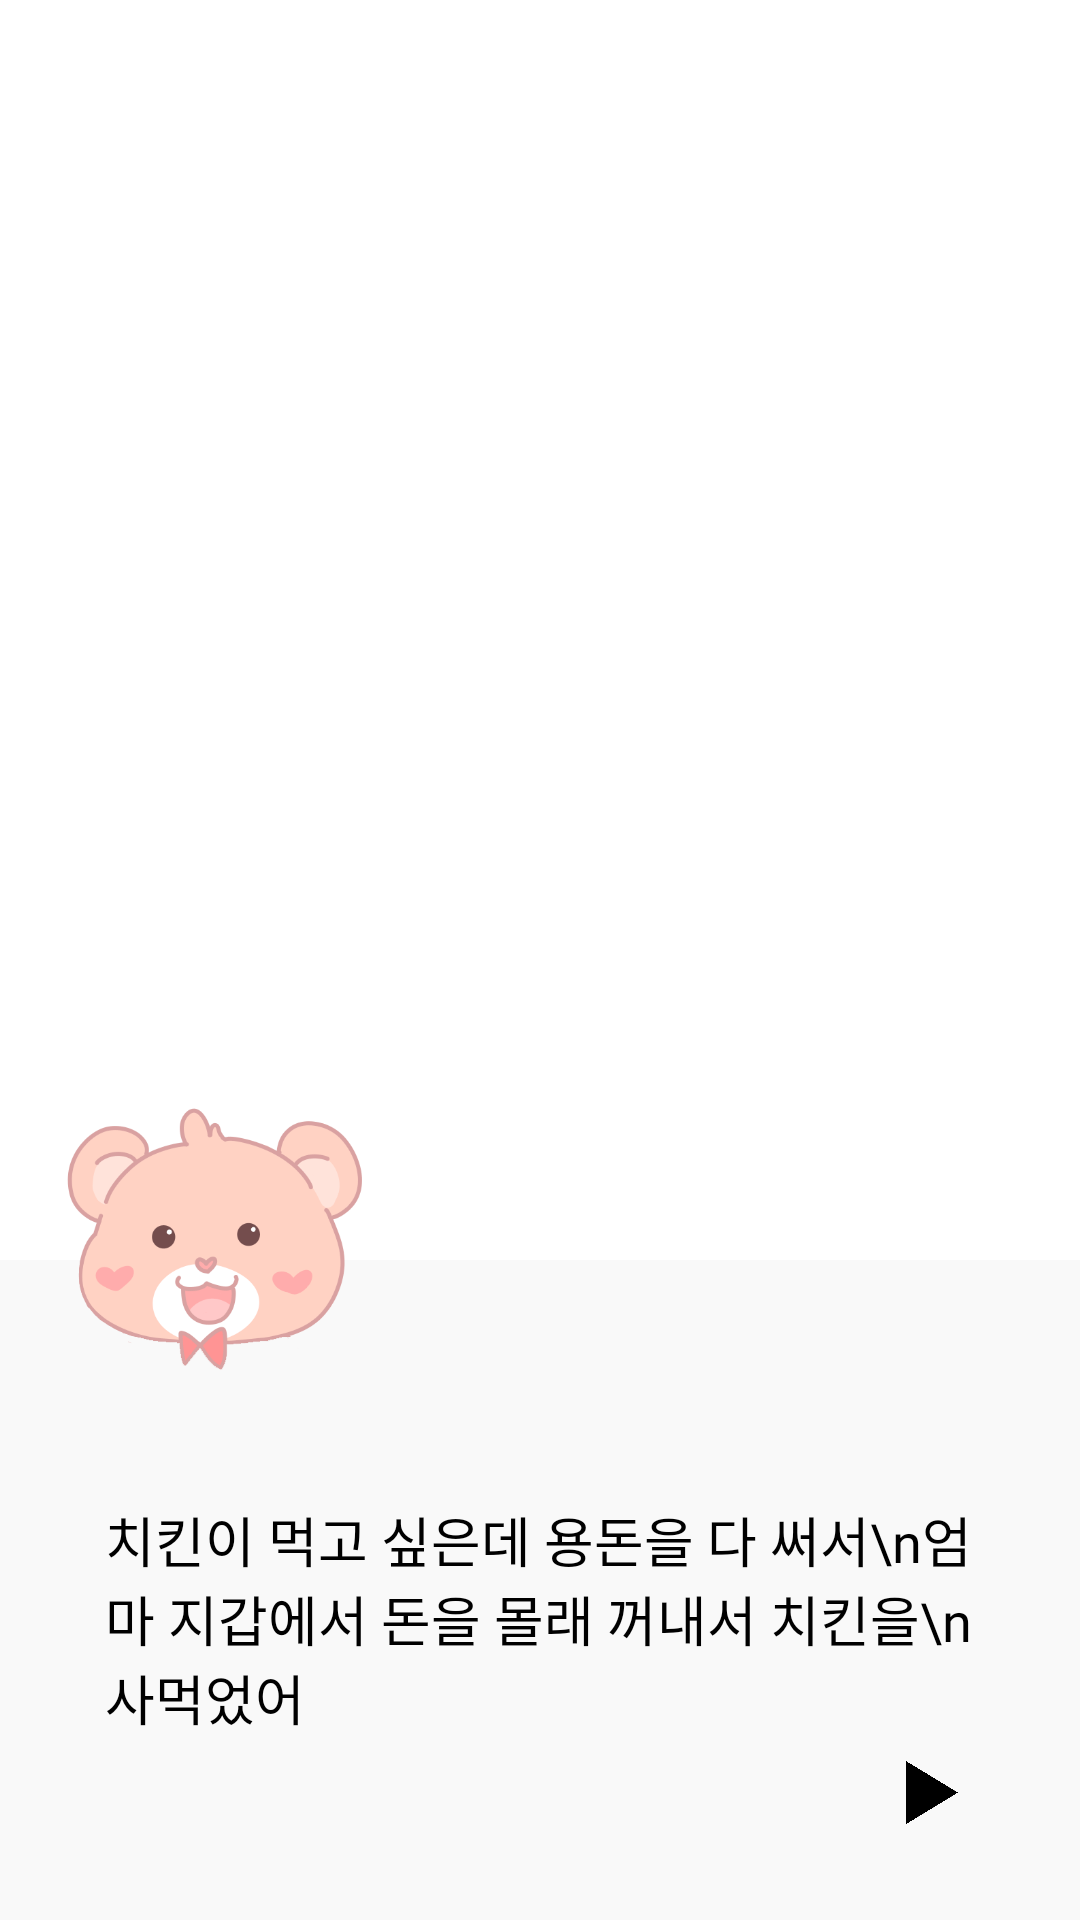

Where icons sit on this 1080px x 1920px app screen, as [x1,y1,x2,y2]:
gom face: [68,1108,362,1370]
noun triangle: [906,1761,958,1824]
